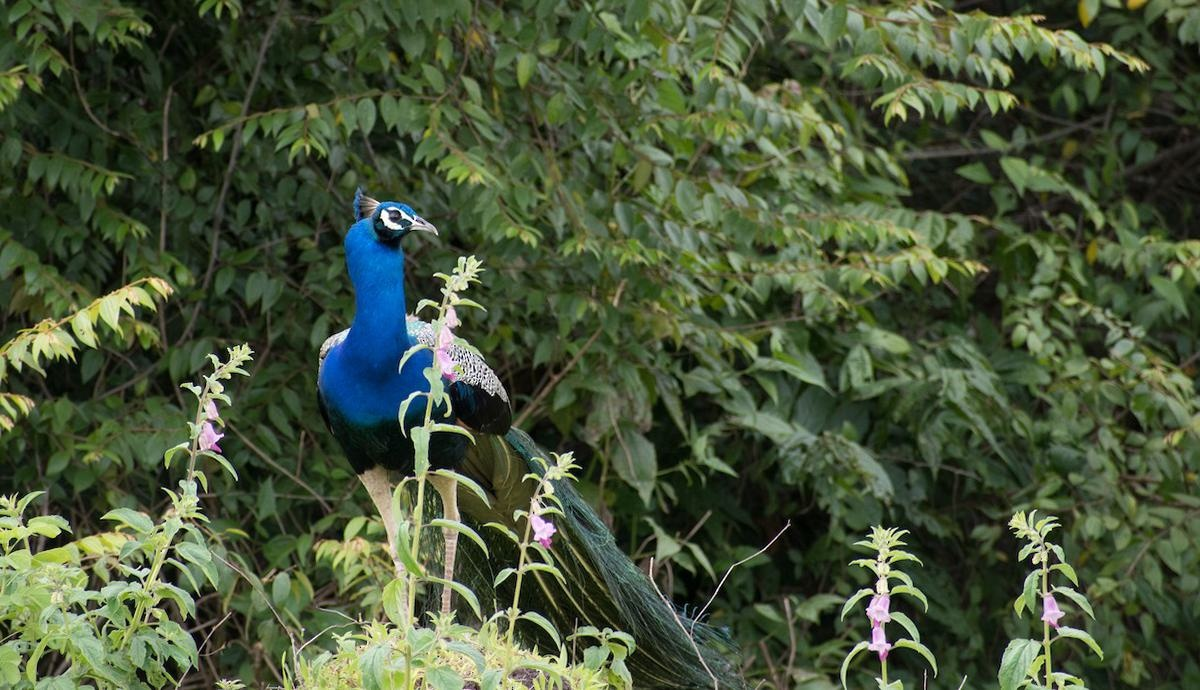peacock: (324, 185, 709, 678)
